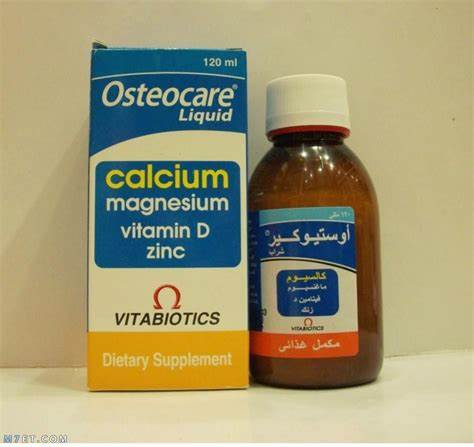Medicine: (85, 41, 252, 400), (250, 61, 385, 391)
